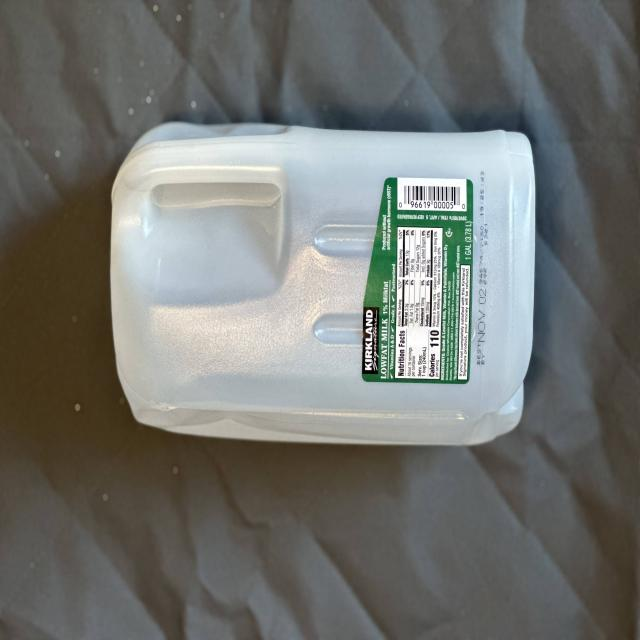milk-jug: (104, 115, 532, 445)
